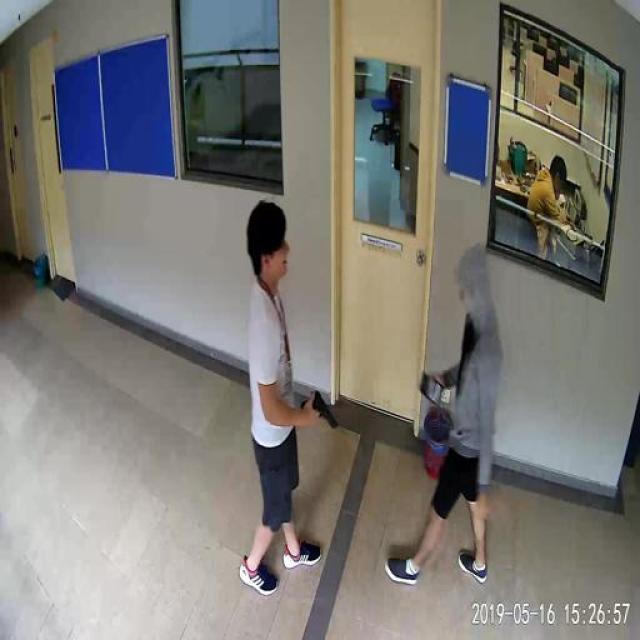Gun: (295, 386, 349, 436)
